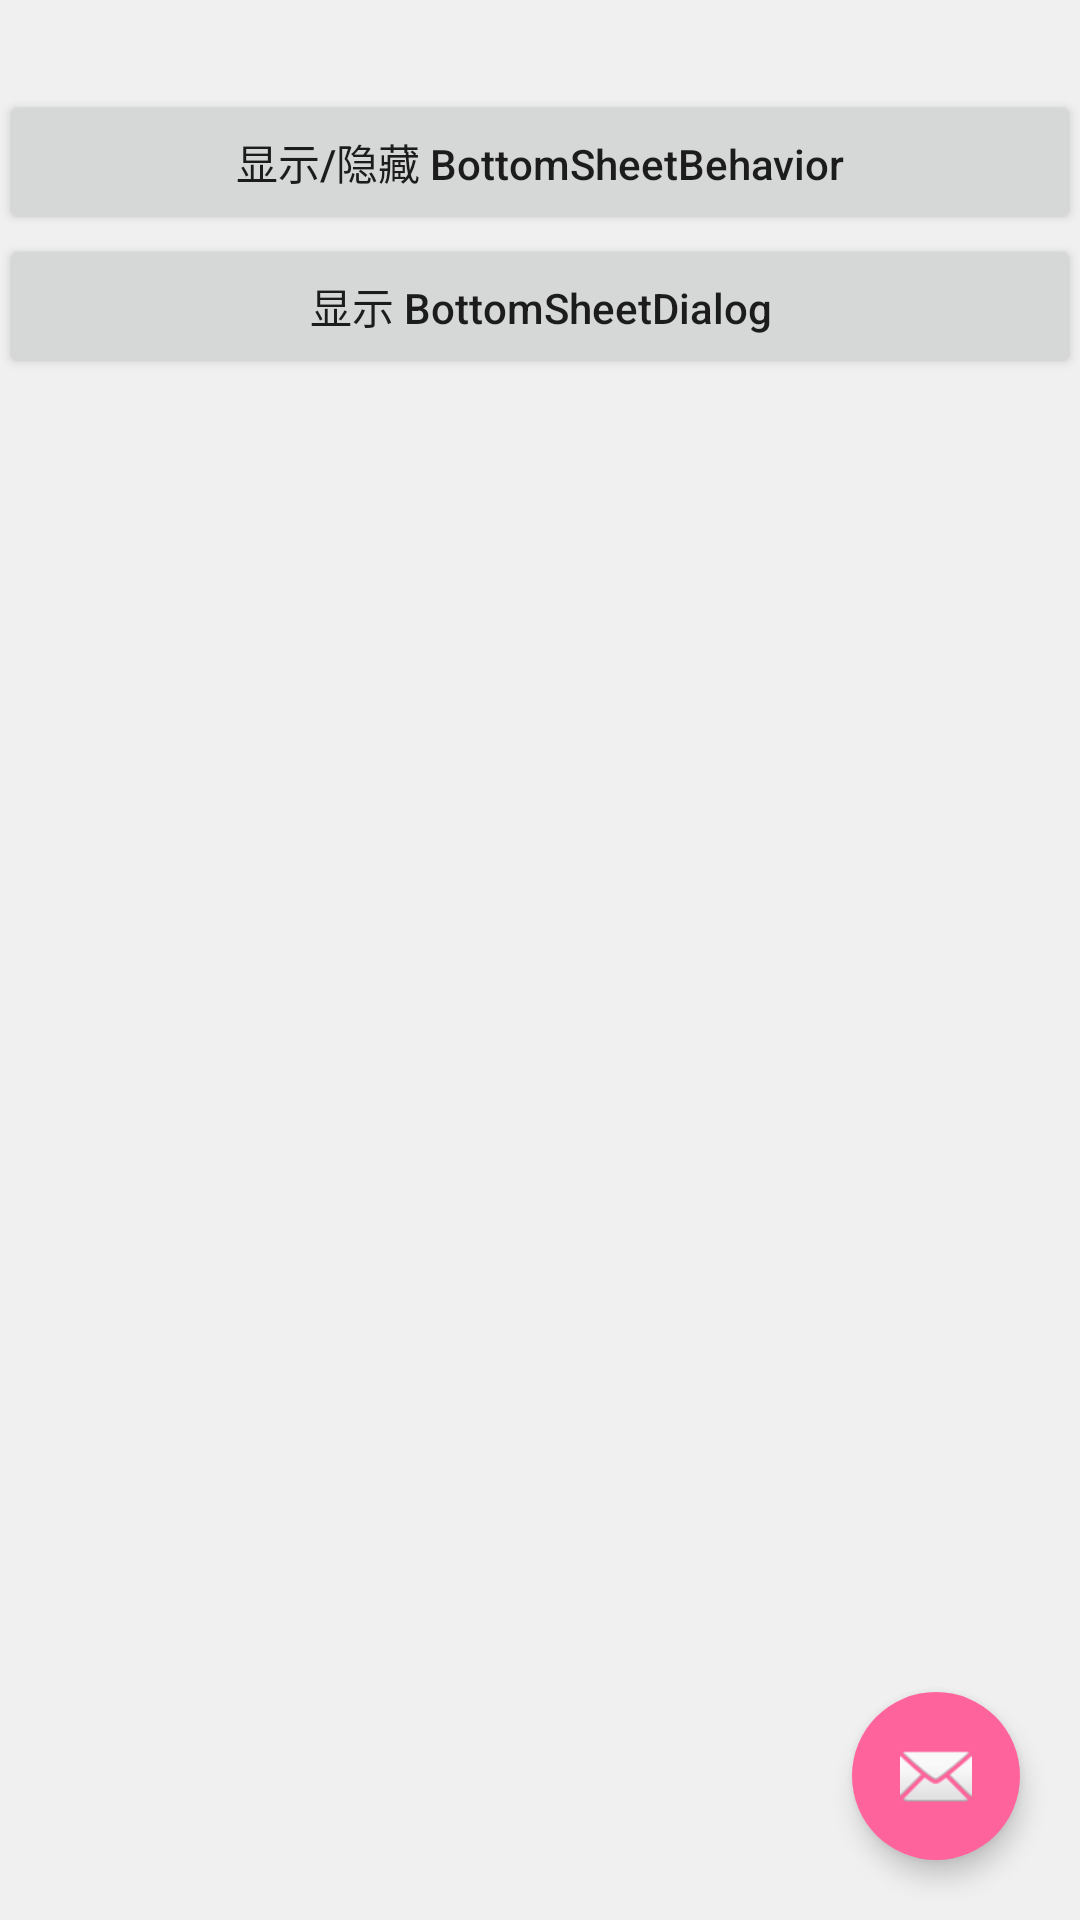

Icon click points for this 1080×1920 phone screenshot, format [x,y]:
email: [936,1776]
